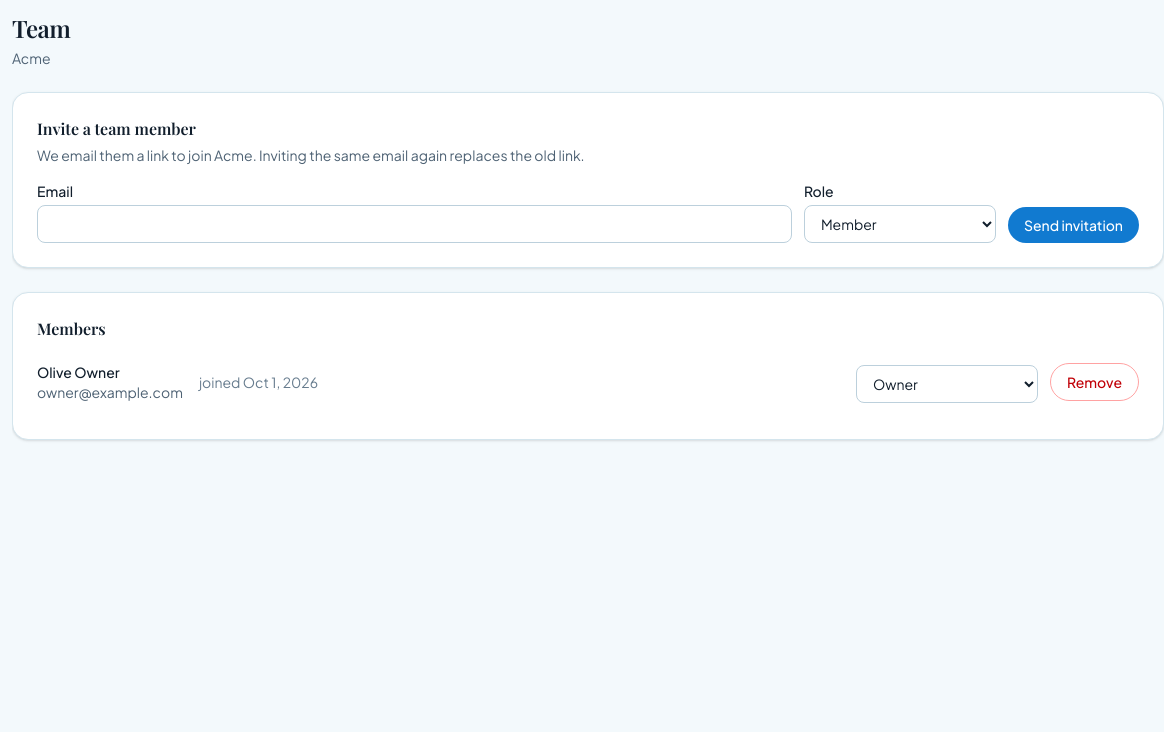
Test case: TeamPage › lets an owner invite someone and shows the new invitation
Type "new@example.com" into the field labelled "Email". click: (414, 224)
box: [37,205,792,243]
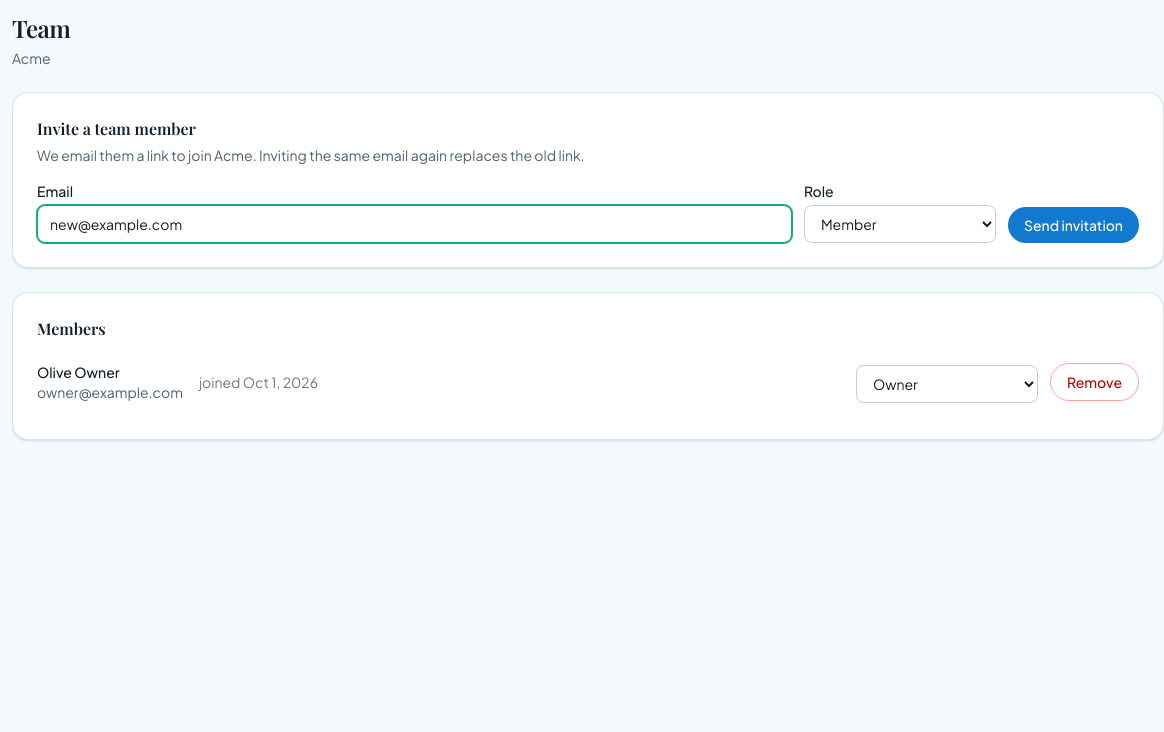
Select "Member" in the dropdown labelled "Role". click: (900, 224)
box: [804,205,996,243]
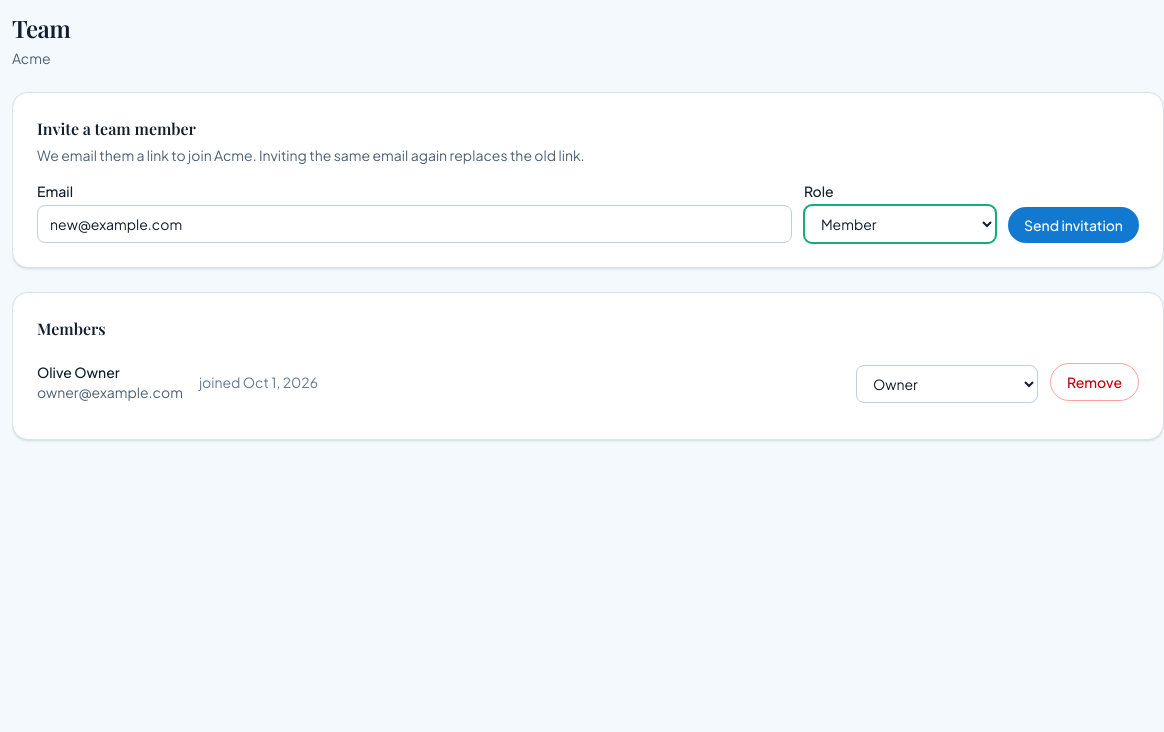
Click the button "Send invitation". click: (1073, 225)
box: [1008,207,1139,243]
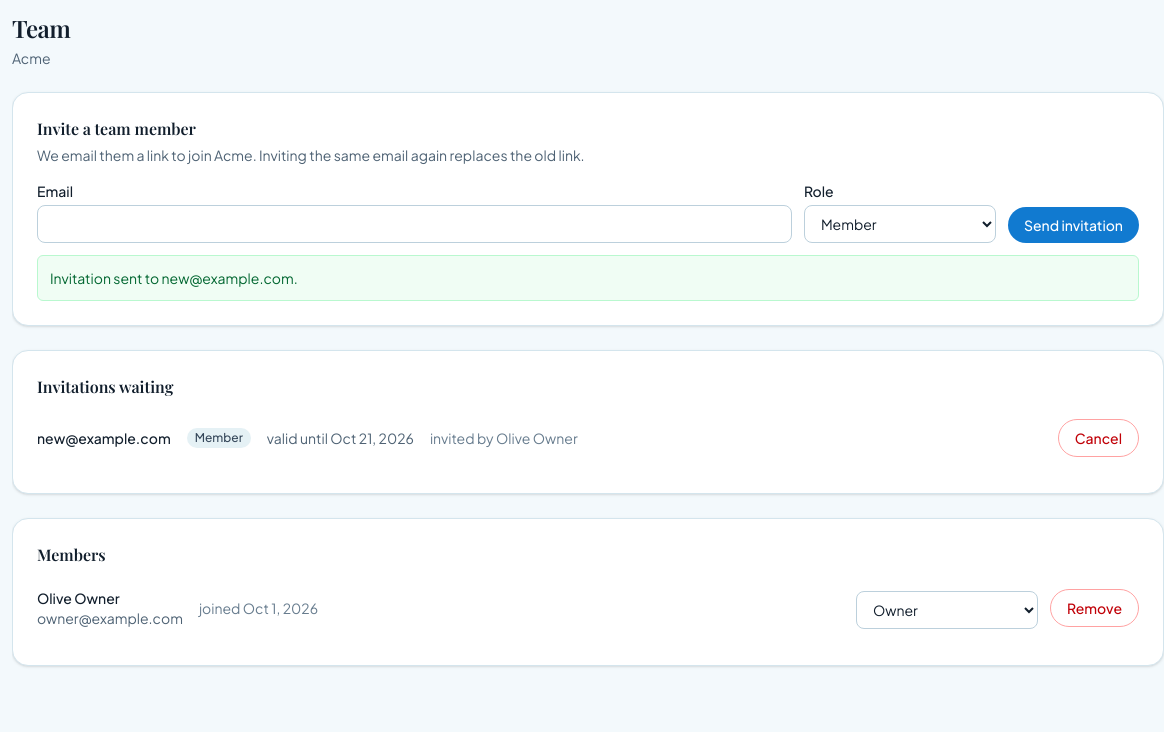
Result: the message reads "Invitation sent to new@example.com." at [37,255,1139,301]
Result: the heading "Invitations waiting" is shown at [37,376,173,397]
